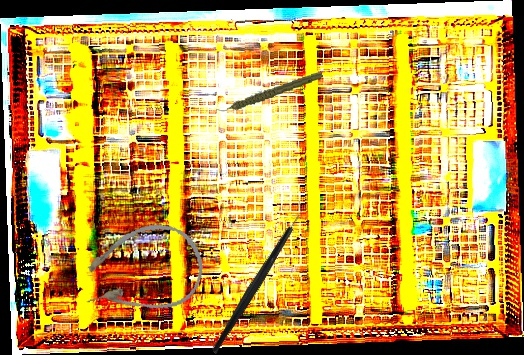Cannula: (73, 215, 211, 325)
Chopper: (170, 197, 343, 355)
Handpiece: (212, 70, 326, 114)
